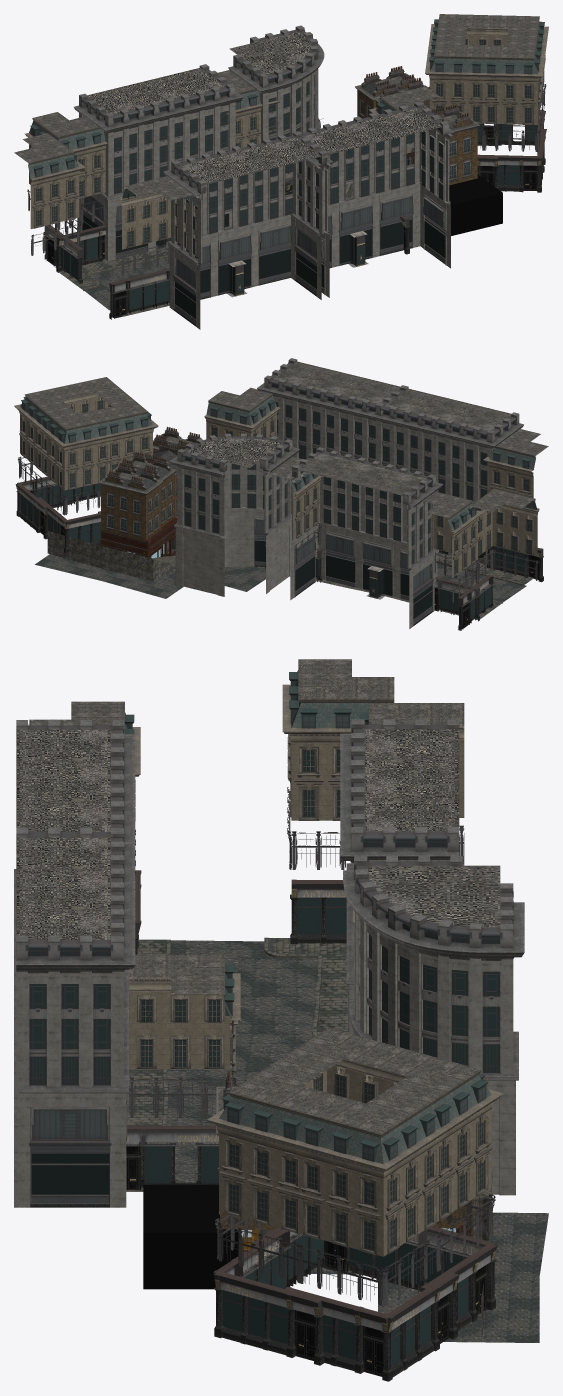
Rendered from Location2_1.fbx.
The picture shows the model from 3 angles, top to bottom: view 1: azimuth 30°, elevation 25°; view 2: azimuth 150°, elevation 25°; view 3: azimuth 270°, elevation 25°; orthographic projection. The views are drawn at different scales.
Parts seen in each view (by area): view 1: sm0011_buildingnew01_01.meshout.002, sm0011_buildingnew01_01.meshout, sm0007_buildingold01_03.meshout.005, sm0011_buildingnew01_01.meshout.001, sm0011_buildingnew01_03.meshout, sm0007_buildingold01_03.meshout.004, sm0007_buildingold01_03.meshout.001, sm0007_buildingold01_03.meshout.002, LOD_1_Group_0_Sub_3__sm0183_decolight00_A_mat, sm0013_buildingbrick01.meshout.003, sm0007_buildingold01_03.meshout.003, LOD_1_Group_0_Sub_2__m02_pavement01 (+3 smaller); view 2: sm0011_buildingnew01_01.meshout.001, sm0011_buildingnew01_03.meshout, sm0007_buildingold01_03.meshout.005, sm0011_buildingnew01_01.meshout, sm0011_buildingnew01_01.meshout.002, sm0007_buildingold01_03.meshout.001, sm0007_buildingold01_03.meshout.002, sm0013_buildingbrick01.meshout.002, LOD_1_Group_0_Sub_4__m02_pavement02_A_mat, sm0007_buildingold01_03.meshout.004, sm0007_buildingold01_03.meshout.012, LOD_1_Group_0_Sub_5__m02_pavement03_Mat (+7 smaller); view 3: sm0007_buildingold01_03.meshout.005, sm0011_buildingnew01_01.meshout.002, sm0011_buildingnew01_03.meshout, LOD_1_Group_0_Sub_4__m02_pavement02_A_mat, sm0007_buildingold01_03.meshout.012, sm0011_buildingnew01_01.meshout.001, sm0007_buildingold01_03.meshout.001, sm0011_buildingnew01_01.meshout, LOD_1_Group_0_Sub_3__sm0183_decolight00_A_mat, LOD_1_Group_0_Sub_2__m02_pavement01, sm0007_buildingold01_03.meshout.002, sm0007_buildingold01_03.meshout.004.
Part boxes in pixels (left/top/right/bottom): sm0011_buildingnew01_01.meshout.002: left=290, top=101, right=454, bottom=299; sm0011_buildingnew01_01.meshout: left=163, top=131, right=332, bottom=329; sm0007_buildingold01_03.meshout.005: left=425, top=14, right=548, bottom=192; sm0011_buildingnew01_01.meshout.001: left=74, top=64, right=243, bottom=260; sm0011_buildingnew01_03.meshout: left=228, top=25, right=324, bottom=195; sm0007_buildingold01_03.meshout.004: left=109, top=176, right=202, bottom=319; sm0007_buildingold01_03.meshout.001: left=14, top=133, right=85, bottom=283; sm0007_buildingold01_03.meshout.002: left=25, top=112, right=107, bottom=272; LOD_1_Group_0_Sub_3__sm0183_decolight00_A_mat: left=319, top=118, right=502, bottom=235; sm0013_buildingbrick01.meshout.003: left=412, top=104, right=479, bottom=185; sm0007_buildingold01_03.meshout.003: left=218, top=70, right=290, bottom=194; LOD_1_Group_0_Sub_2__m02_pavement01: left=57, top=245, right=401, bottom=316; sm0011_buildingnew01_01.meshout.001: left=287, top=447, right=443, bottom=628; sm0011_buildingnew01_03.meshout: left=170, top=433, right=299, bottom=596; sm0007_buildingold01_03.meshout.005: left=14, top=377, right=158, bottom=553; sm0011_buildingnew01_01.meshout: left=368, top=385, right=523, bottom=564; sm0011_buildingnew01_01.meshout.002: left=257, top=358, right=407, bottom=464; sm0007_buildingold01_03.meshout.001: left=457, top=488, right=539, bottom=630; sm0007_buildingold01_03.meshout.002: left=422, top=491, right=483, bottom=621; sm0013_buildingbrick01.meshout.002: left=98, top=463, right=162, bottom=541; LOD_1_Group_0_Sub_4__m02_pavement02_A_mat: left=35, top=554, right=526, bottom=602; sm0007_buildingold01_03.meshout.004: left=483, top=429, right=548, bottom=582; sm0007_buildingold01_03.meshout.012: left=204, top=387, right=280, bottom=439; LOD_1_Group_0_Sub_5__m02_pavement03_Mat: left=47, top=531, right=175, bottom=580; sm0007_buildingold01_03.meshout.005: left=206, top=1028, right=503, bottom=1381; sm0011_buildingnew01_01.meshout.002: left=14, top=828, right=135, bottom=1207; sm0011_buildingnew01_03.meshout: left=343, top=856, right=524, bottom=1195; LOD_1_Group_0_Sub_4__m02_pavement02_A_mat: left=167, top=940, right=548, bottom=1342; sm0007_buildingold01_03.meshout.012: left=126, top=954, right=240, bottom=1189; sm0011_buildingnew01_01.meshout.001: left=340, top=719, right=459, bottom=1033; sm0007_buildingold01_03.meshout.001: left=282, top=659, right=394, bottom=944; sm0011_buildingnew01_01.meshout: left=14, top=720, right=135, bottom=1092; LOD_1_Group_0_Sub_3__sm0183_decolight00_A_mat: left=143, top=1185, right=239, bottom=1289; LOD_1_Group_0_Sub_2__m02_pavement01: left=126, top=937, right=348, bottom=1191; sm0007_buildingold01_03.meshout.002: left=359, top=703, right=464, bottom=855; sm0007_buildingold01_03.meshout.004: left=29, top=701, right=141, bottom=954.
Bounding box in the file's own units: 9275 × 2521 × 4325.
